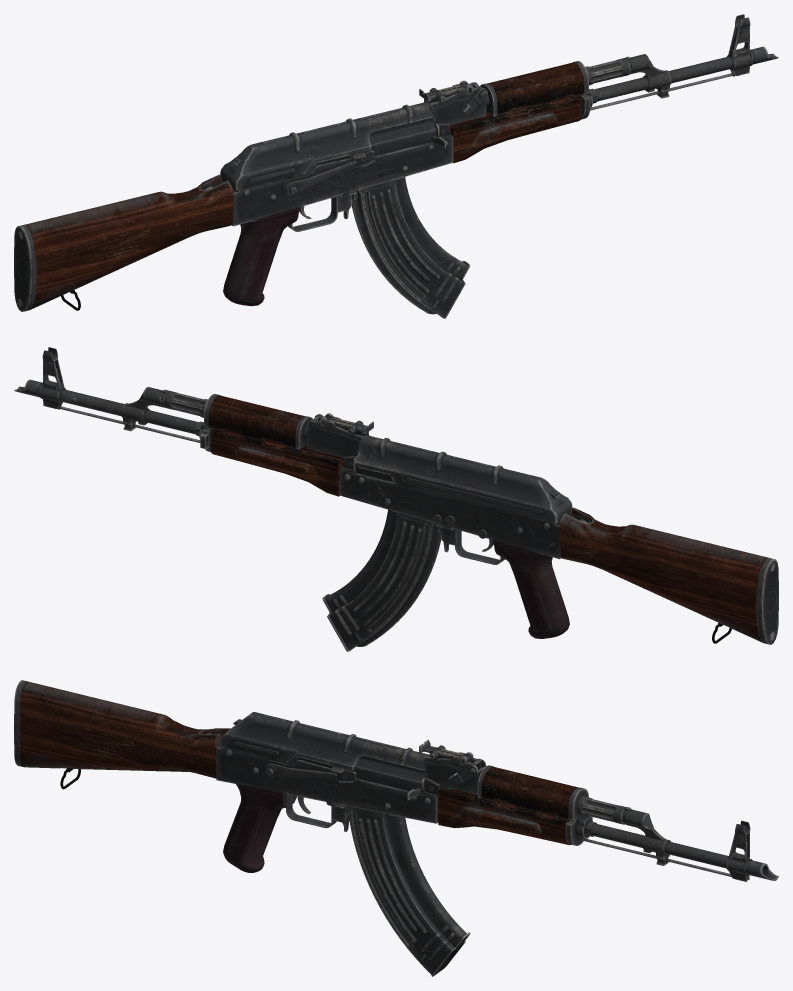
3 views of the same model, one above another, from view 1: azimuth 30°, elevation 25°; view 2: azimuth 150°, elevation 25°; view 3: azimuth 330°, elevation 25° (orthographic).
Visible parts, largest first — view 1: l_stockWood_low, bm_magazine_low, u_dustcover_low, m_base_low, r_woodLower_low_Material #44_0, bl_grip_low, ur_woodUpper_low, l_stockMetal_low, u_dustcoverHolder_low, r_barrel_low, m_safetyswitch_low, r_numberBase_low (+4 smaller); view 2: l_stockWood_low, u_dustcover_low, bm_magazine_low, m_base_low, r_woodLower_low_Material #44_0, bl_grip_low, ur_woodUpper_low, l_stockMetal_low, r_barrel_low, r_numberBase_low, r_barrelAim_low, r_Connector_low (+2 smaller); view 3: l_stockWood_low, bm_magazine_low, u_dustcover_low, m_base_low, r_woodLower_low_Material #44_0, bl_grip_low, ur_woodUpper_low, u_dustcoverHolder_low, r_barrel_low, m_safetyswitch_low, r_numberBase_low, r_Connector_low (+5 smaller).
Part boxes in pixels (x1,y1,x2,y2): l_stockWood_low: (24,174,233,309); bm_magazine_low: (351,177,467,317); u_dustcover_low: (220,101,433,190); m_base_low: (221,132,453,226); r_woodLower_low_Material #44_0: (449,96,581,163); bl_grip_low: (223,207,300,306); ur_woodUpper_low: (487,62,584,115); l_stockMetal_low: (14,225,35,311); u_dustcoverHolder_low: (311,118,436,170); r_barrel_low: (594,56,733,101); m_safetyswitch_low: (281,150,375,198); r_numberBase_low: (431,82,486,124); l_stockWood_low: (559,507,768,642); u_dustcover_low: (355,434,572,523); bm_magazine_low: (325,509,441,649); m_base_low: (339,464,571,559); r_woodLower_low_Material #44_0: (210,428,343,496); bl_grip_low: (492,540,569,638); ur_woodUpper_low: (208,395,305,448); l_stockMetal_low: (757,558,778,644); r_barrel_low: (59,389,198,434); r_numberBase_low: (306,415,369,457); r_barrelAim_low: (41,347,65,408); r_Connector_low: (121,387,167,423); l_stockWood_low: (19,681,230,778); bm_magazine_low: (347,810,466,974); u_dustcover_low: (220,712,429,770); m_base_low: (216,744,451,823); r_woodLower_low_Material #44_0: (438,788,571,845); bl_grip_low: (223,784,296,872); ur_woodUpper_low: (481,766,578,819); u_dustcoverHolder_low: (293,756,425,793); r_barrel_low: (591,823,728,868); m_safetyswitch_low: (263,759,357,782); r_numberBase_low: (423,758,486,795); r_Connector_low: (622,807,670,854).
Size of the model in its own units: 1.92 by 0.5479 by 0.1356.
1 material, 1 textured.
